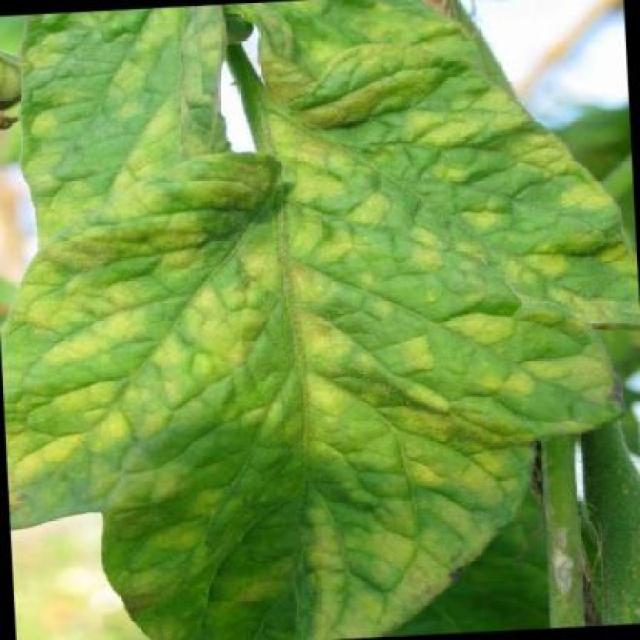Leaf Mold: (0, 173, 638, 638), (11, 5, 238, 194)
